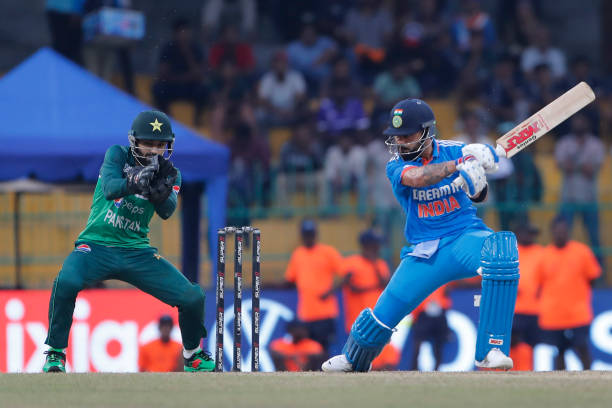bottom left: (572, 74, 589, 89)
bottom right: (586, 91, 601, 106)
top left: (490, 132, 506, 148)
top right: (504, 144, 518, 164)
